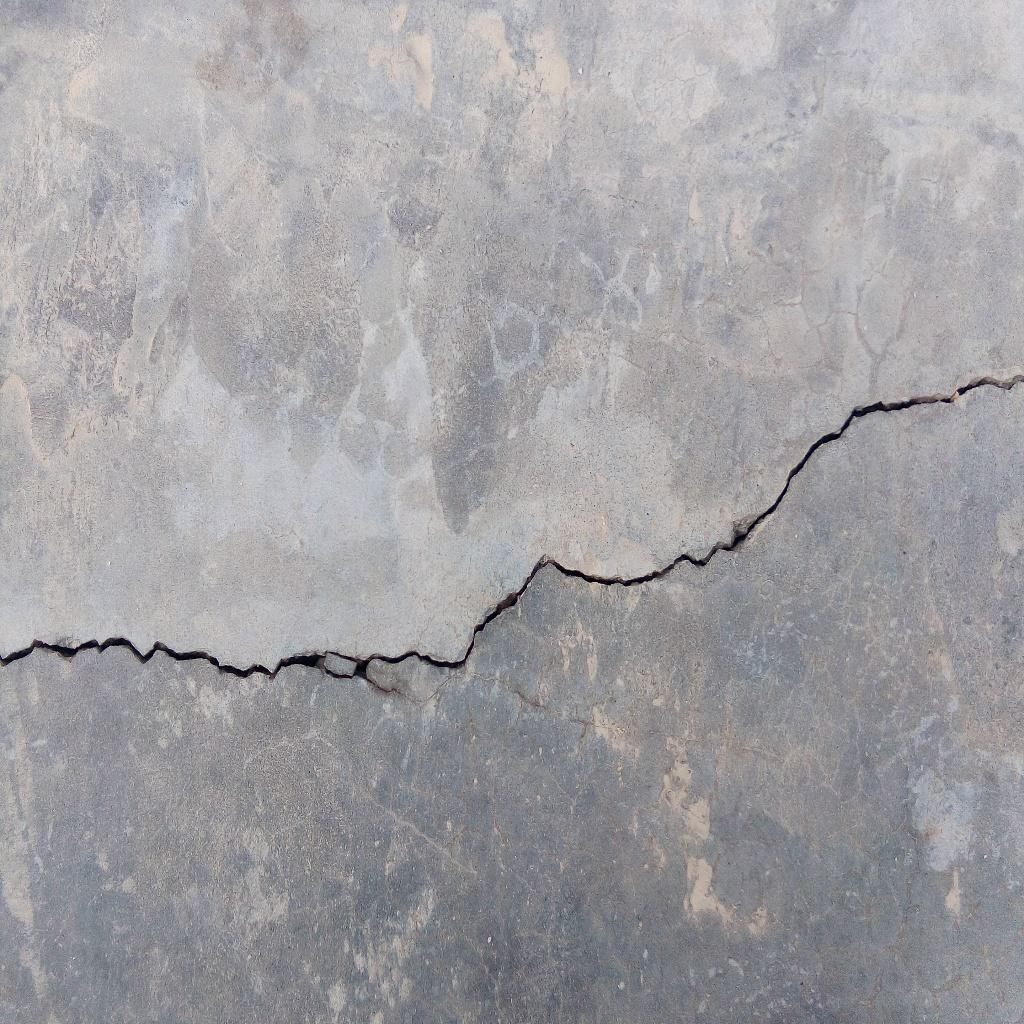Crack: (1, 376, 1024, 681)
